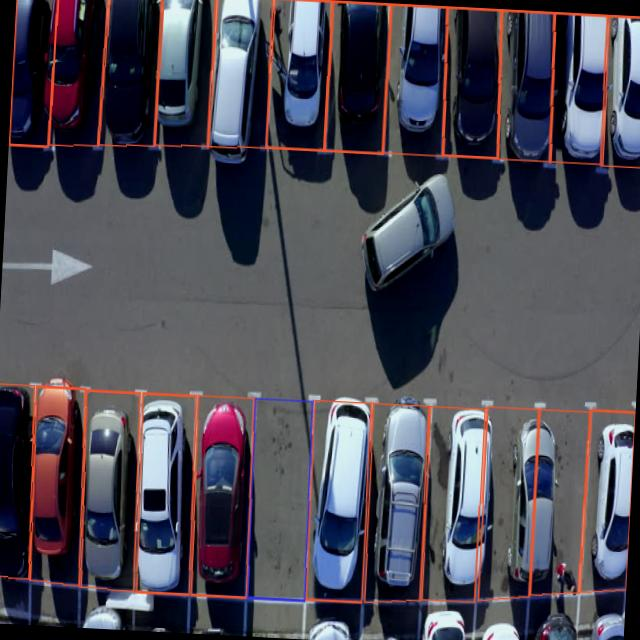car: (362, 398, 440, 608), (302, 393, 378, 603), (183, 394, 258, 600), (126, 389, 199, 592), (426, 403, 500, 602), (493, 406, 569, 598), (21, 387, 92, 586), (76, 390, 142, 586), (574, 408, 635, 598), (263, 0, 338, 149), (147, 0, 218, 147), (494, 10, 562, 162), (440, 8, 508, 158), (43, 0, 110, 148), (327, 0, 392, 151), (388, 5, 452, 156), (207, 0, 271, 148), (554, 15, 612, 165), (105, 0, 161, 146), (0, 386, 39, 582), (8, 0, 55, 147), (599, 16, 640, 166)
free: (242, 394, 318, 601), (538, 409, 598, 594)
